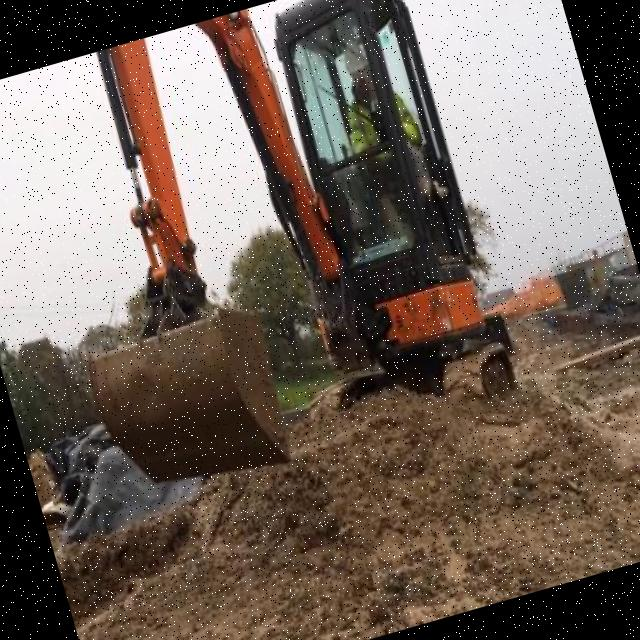Excavator: (0, 0, 527, 512)
